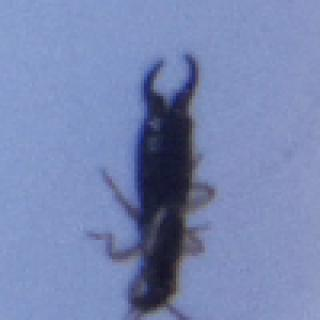earwig: (83, 50, 226, 320)
